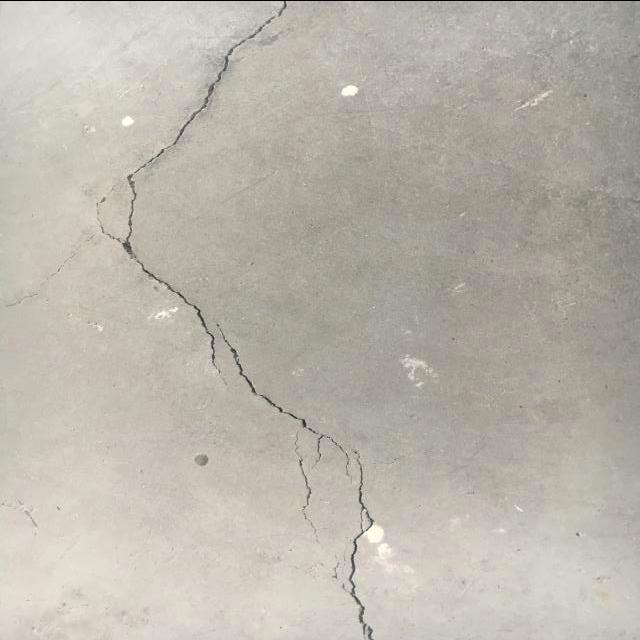SurfaceCrack: (78, 1, 417, 640)
